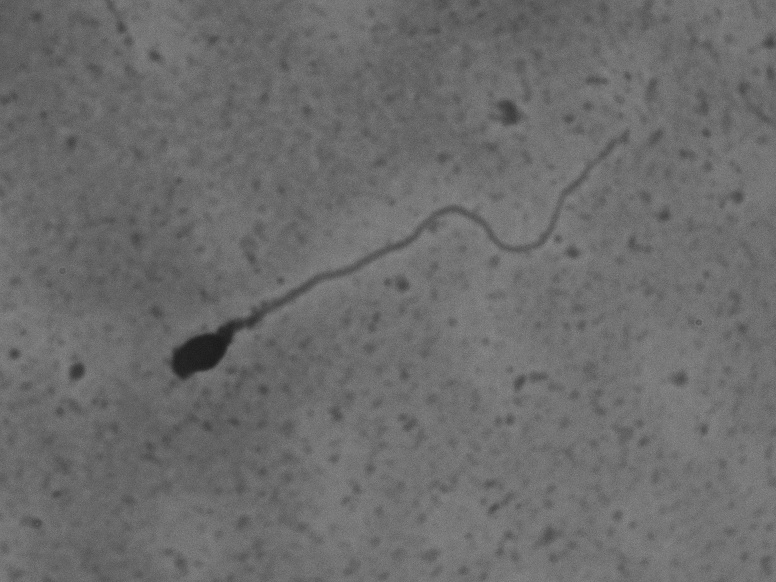Abnormal: (97, 103, 653, 380)
